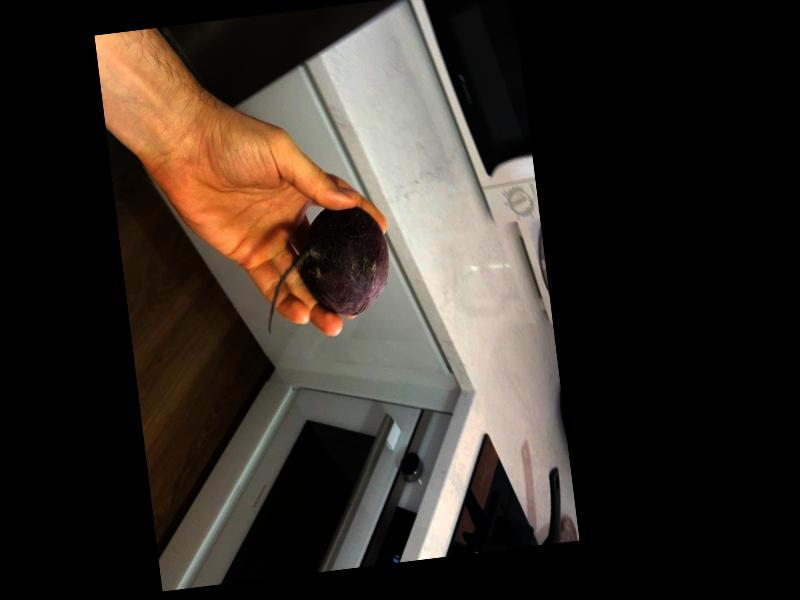Beet: (254, 202, 396, 336)
